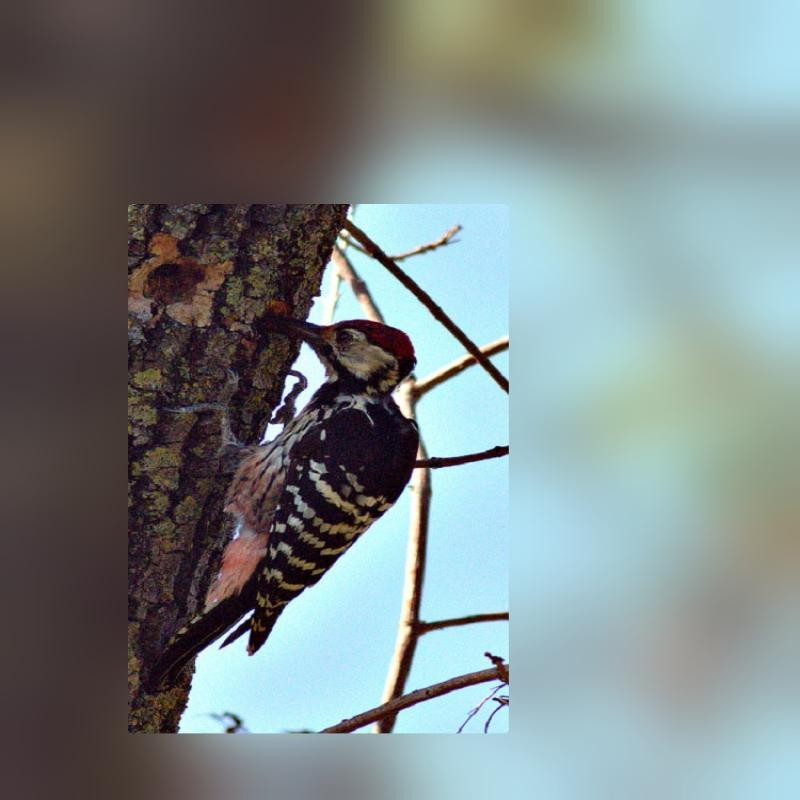white-backed woodpecker: (147, 305, 440, 644)
